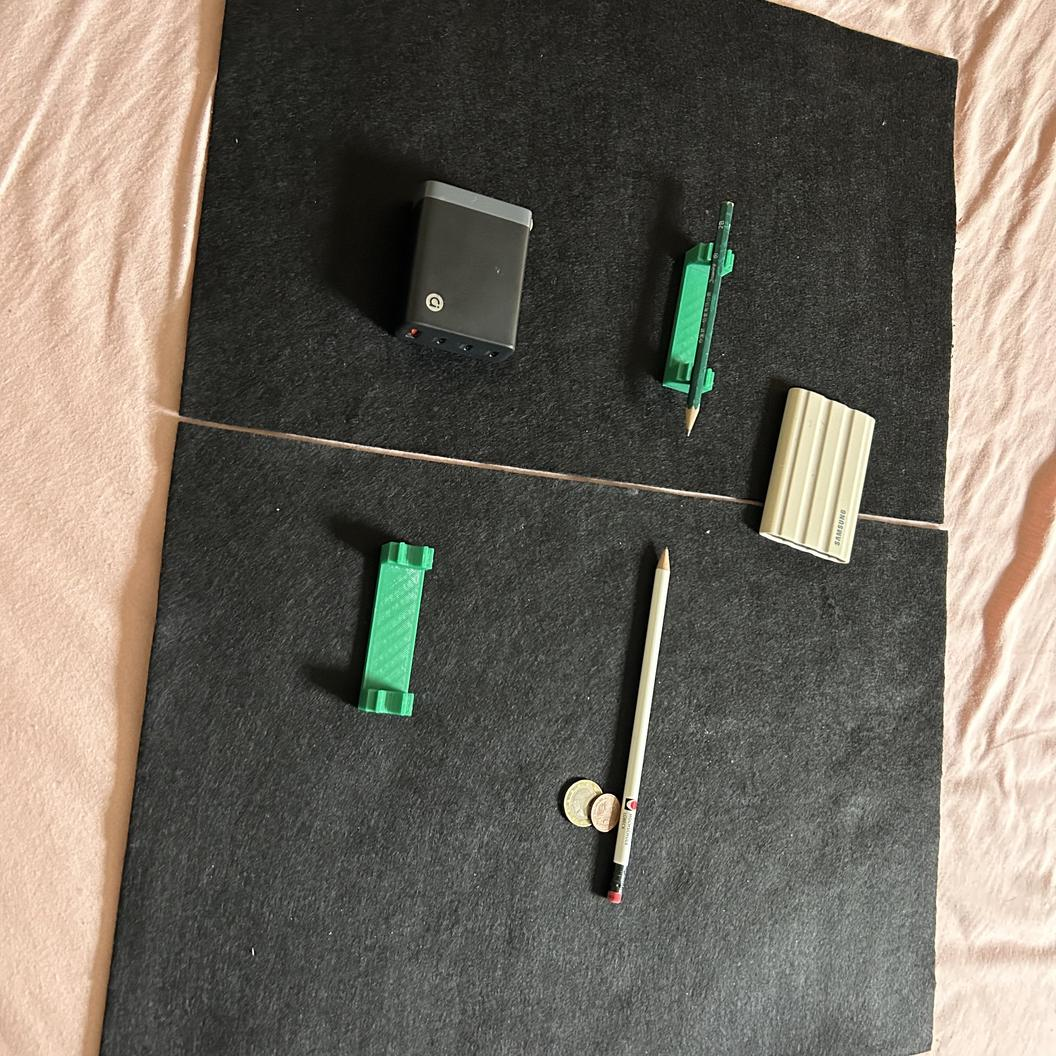X: (661, 198, 736, 438)
holder: (356, 539, 435, 717), (661, 240, 737, 395)
pencil: (606, 544, 672, 903), (683, 198, 736, 438)
